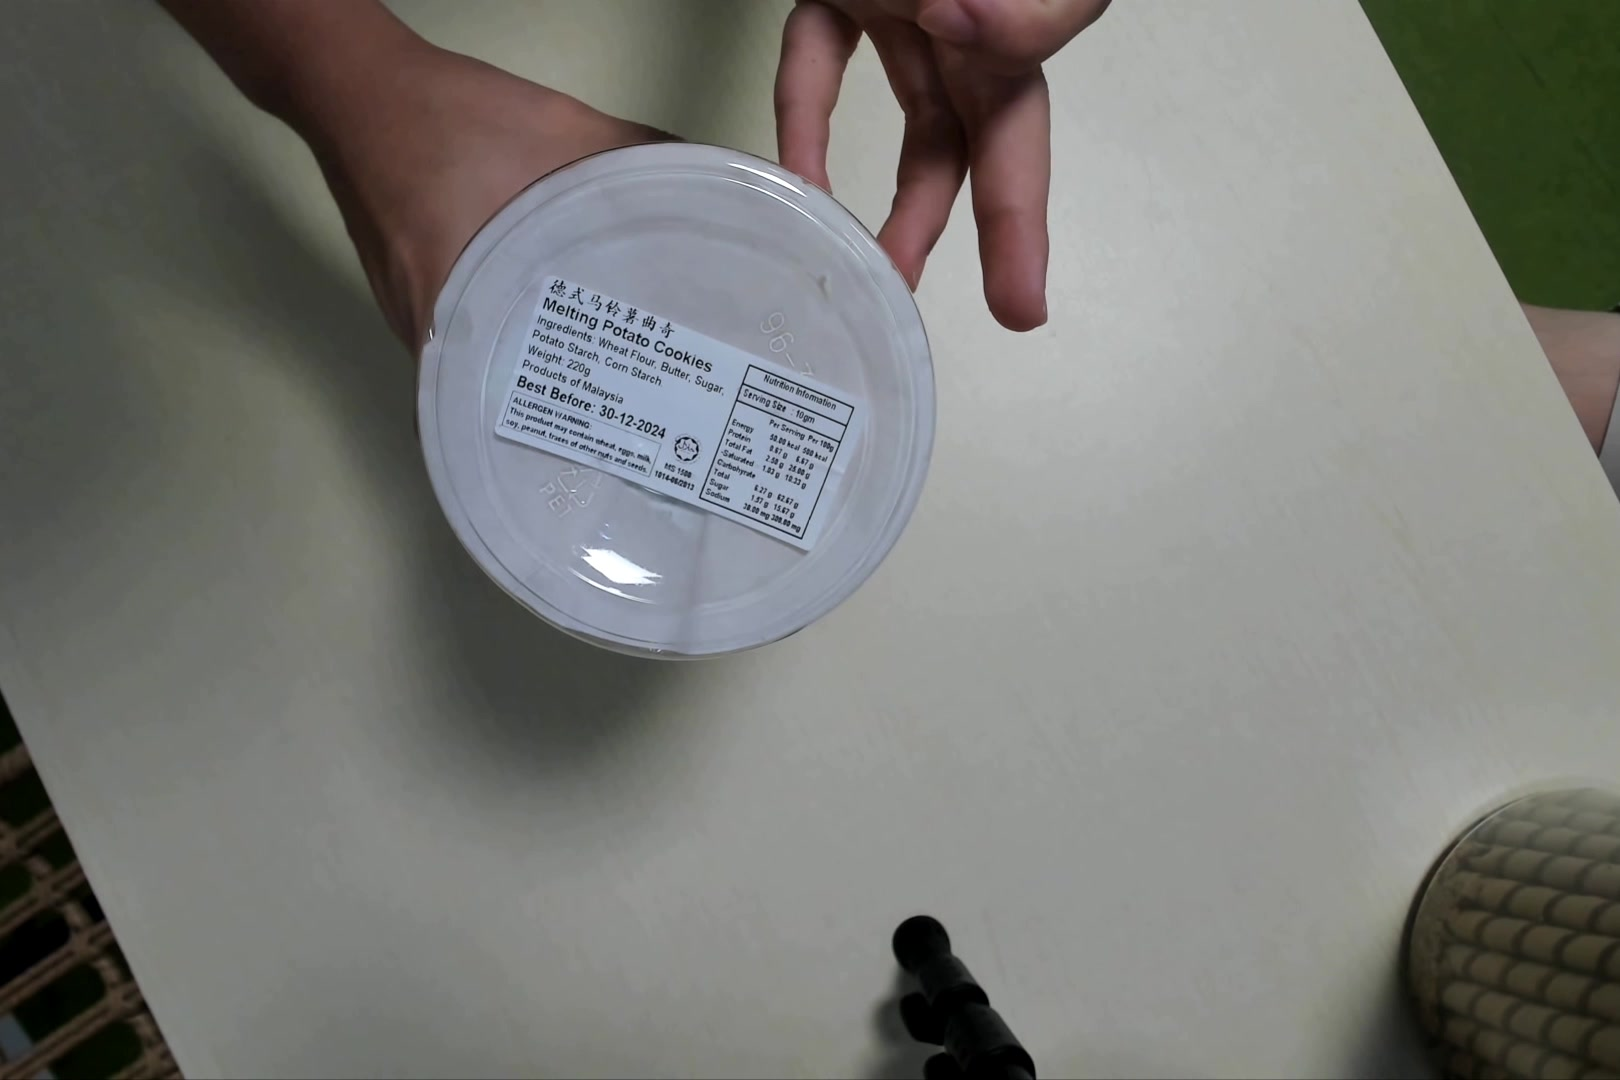BiscuitsCrackersCookies_200-299g_Halal_NonHealthy: (418, 143, 937, 669)
